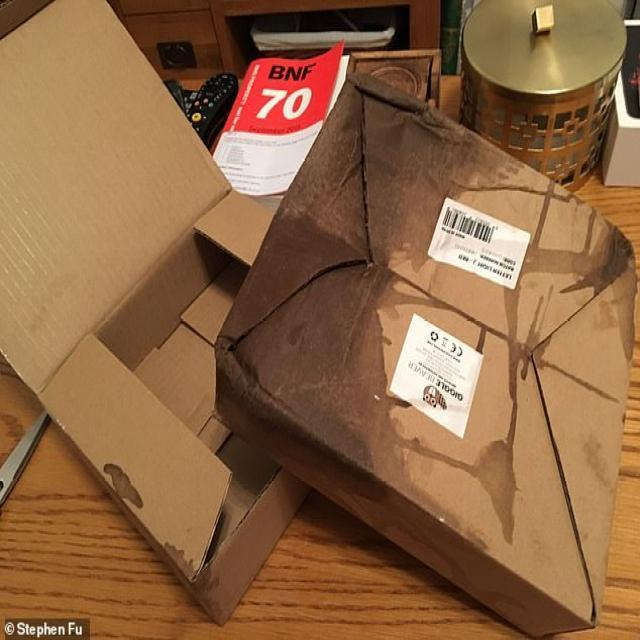wet: (236, 82, 593, 536)
